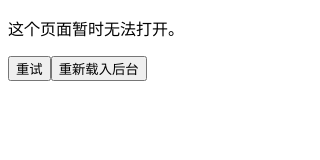
retries a rejected lazy import without reloading the whole workspace
Click the button "重试" at (29, 68), box [8, 56, 51, 81]
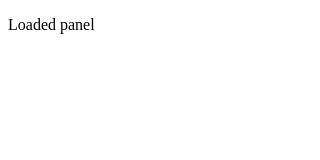
expect the text "Loaded panel" is shown: met, box [8, 16, 95, 33]
